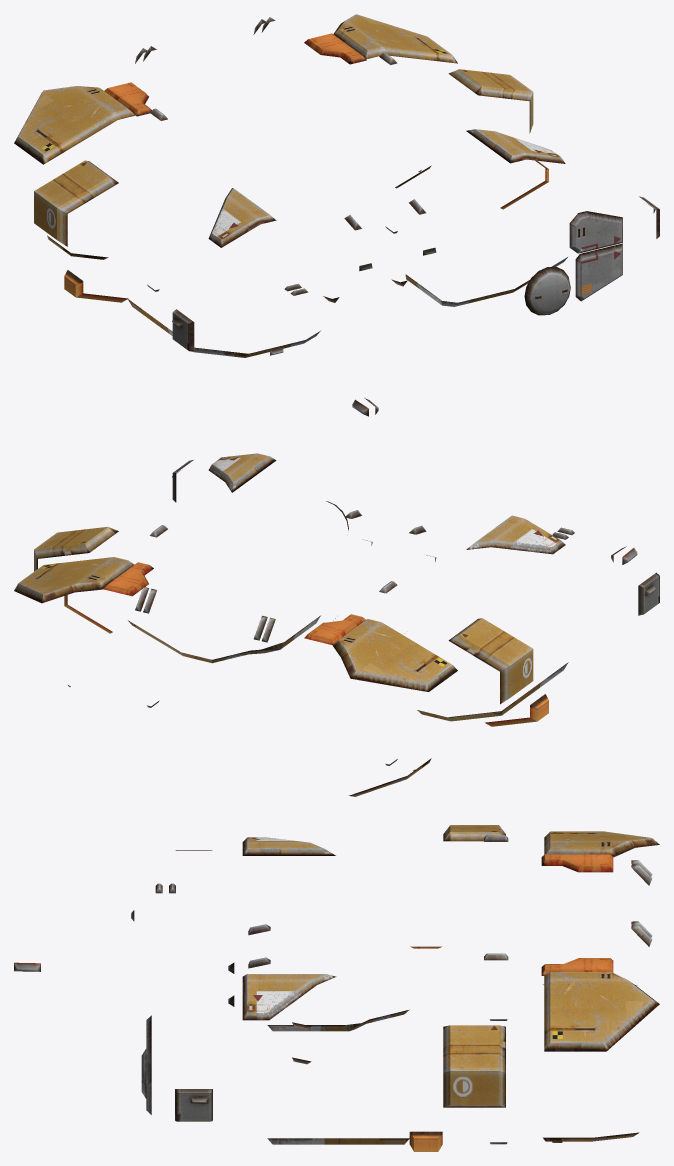
The model's file is hgn_pf_targ_01.glb.
The picture shows the model from 3 angles, top to bottom: view 1: azimuth 30°, elevation 25°; view 2: azimuth 150°, elevation 25°; view 3: azimuth 270°, elevation 25°; orthographic projection. The views are drawn at different scales.
Parts seen in each view (by area): view 1: hgn_turret_plattform_01_LOD0; view 2: hgn_turret_plattform_01_LOD0; view 3: hgn_turret_plattform_01_LOD0.
Part boxes in pixels (x1,y1,x2,y2): hgn_turret_plattform_01_LOD0: (14, 14, 659, 416); hgn_turret_plattform_01_LOD0: (14, 453, 659, 796); hgn_turret_plattform_01_LOD0: (14, 825, 659, 1151).
Size of what is drawn, in the model's own units: 1.27 by 0.4548 by 1.41.
Materials: 1 (1 with a texture image).
